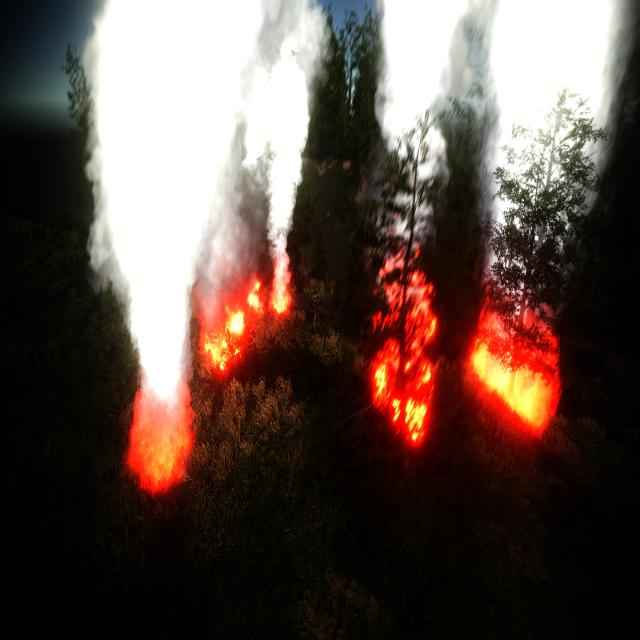Human: (308, 282, 320, 338)
